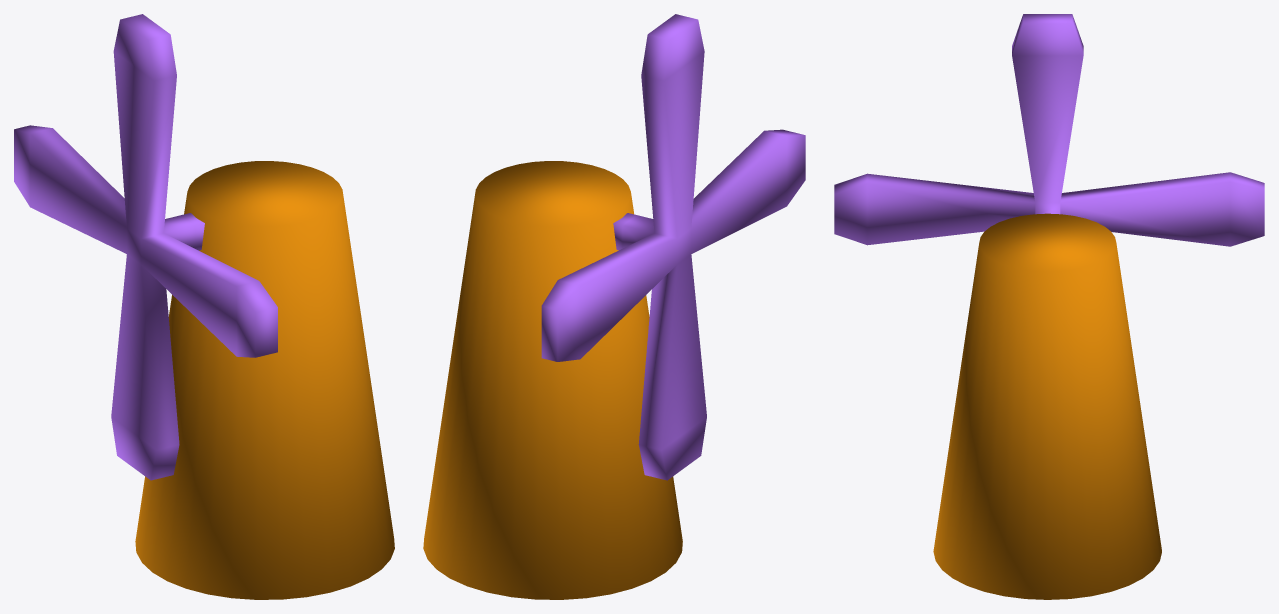
Rendered from windmill.glb.
3 views of the same model, side by side, from view 1: azimuth 30°, elevation 25°; view 2: azimuth 150°, elevation 25°; view 3: azimuth 270°, elevation 25° (orthographic). The views are drawn at different scales.
Visible parts, largest first — view 1: Cylinder, Cube; view 2: Cylinder, Cube; view 3: Cylinder, Cube.
Boxes of the visible parts, bbox=[...] form: Cylinder: bbox=[135, 161, 394, 599]; Cube: bbox=[14, 14, 277, 480]; Cylinder: bbox=[423, 161, 682, 599]; Cube: bbox=[541, 14, 805, 480]; Cylinder: bbox=[933, 213, 1161, 599]; Cube: bbox=[834, 14, 1264, 246].
Size of the model in its own units: 31.95 by 68.53 by 55.51.
